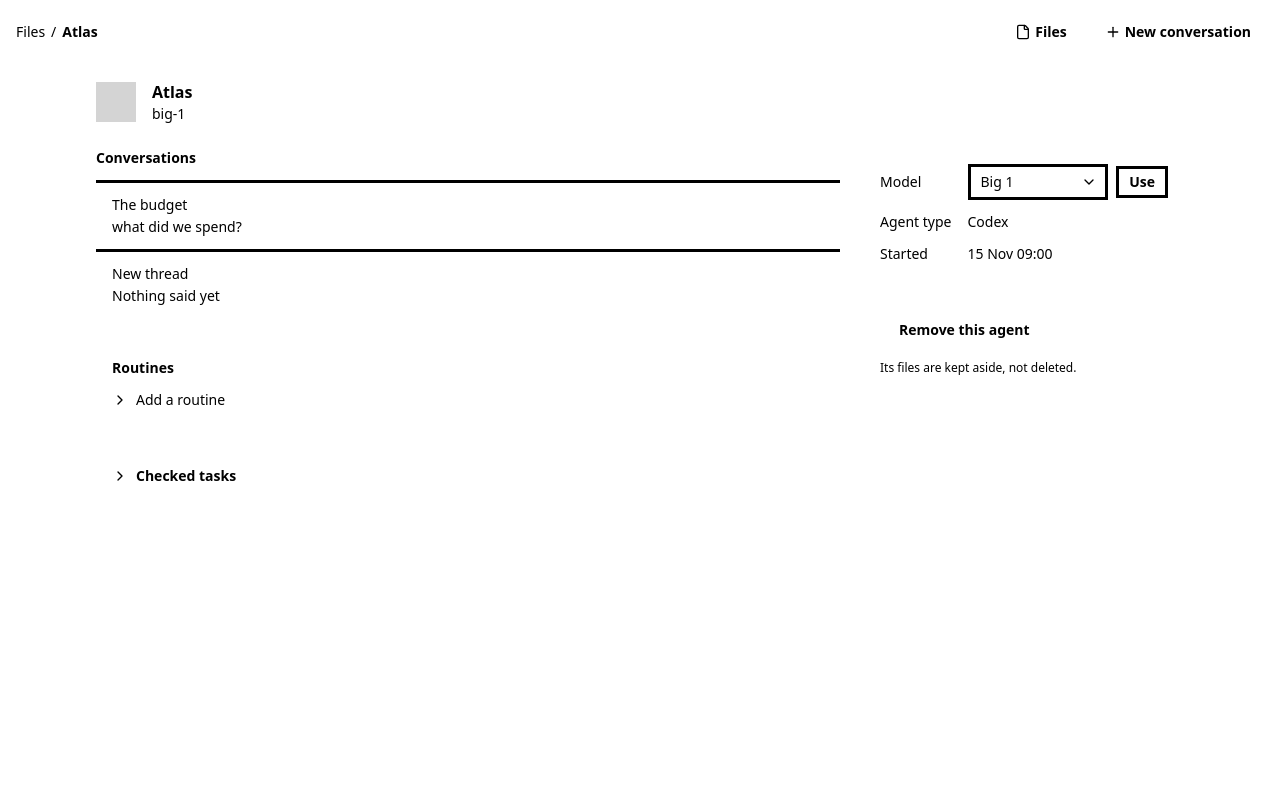
Scenario: a project's page › asks before removing the agent, and says its files are kept aside
This screenshot has width=1280, height=800.
Expected: the text "Its files are kept aside, not deleted." is shown, [880,359,1076,376]
Click the button "Remove this agent": (964, 330) [880,312,1048,348]
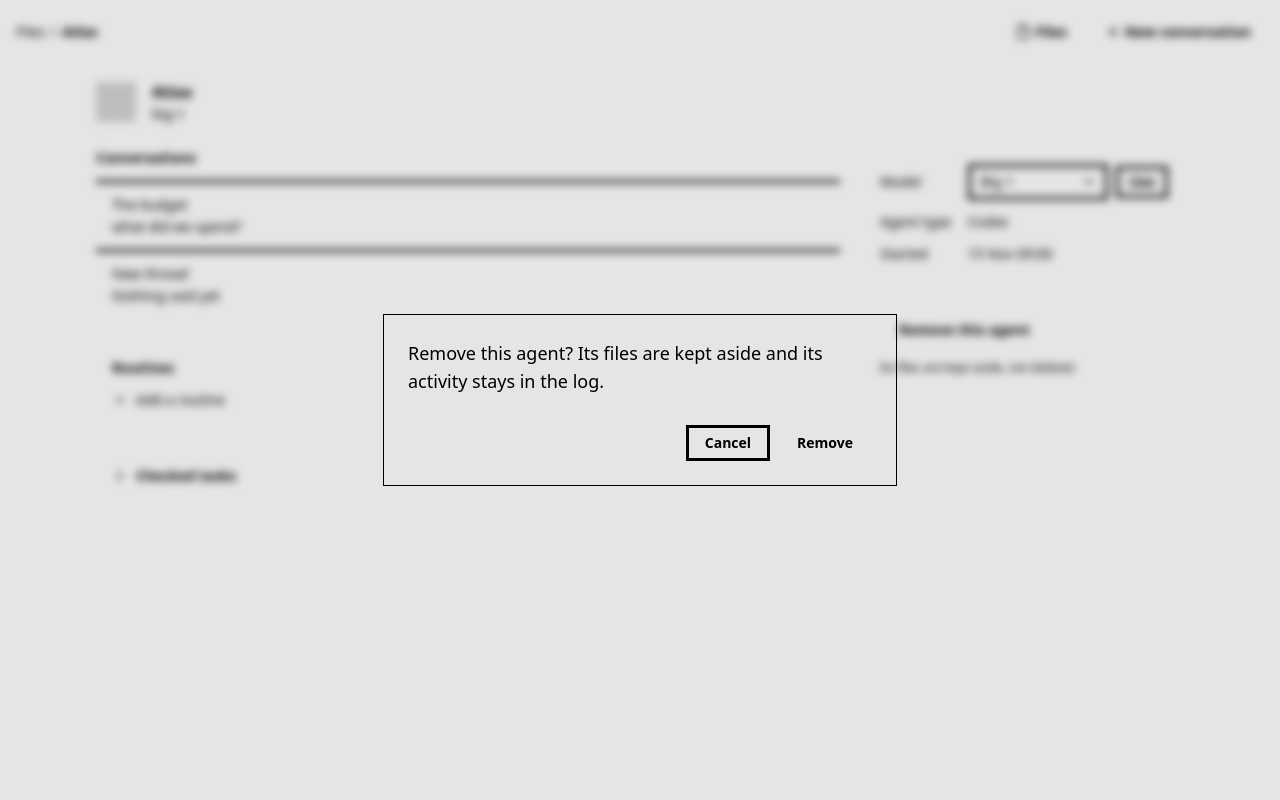
Expected: the heading "Remove this agent? Its files are kept aside and its activity stays in the log." is shown, [408,339,872,395]
